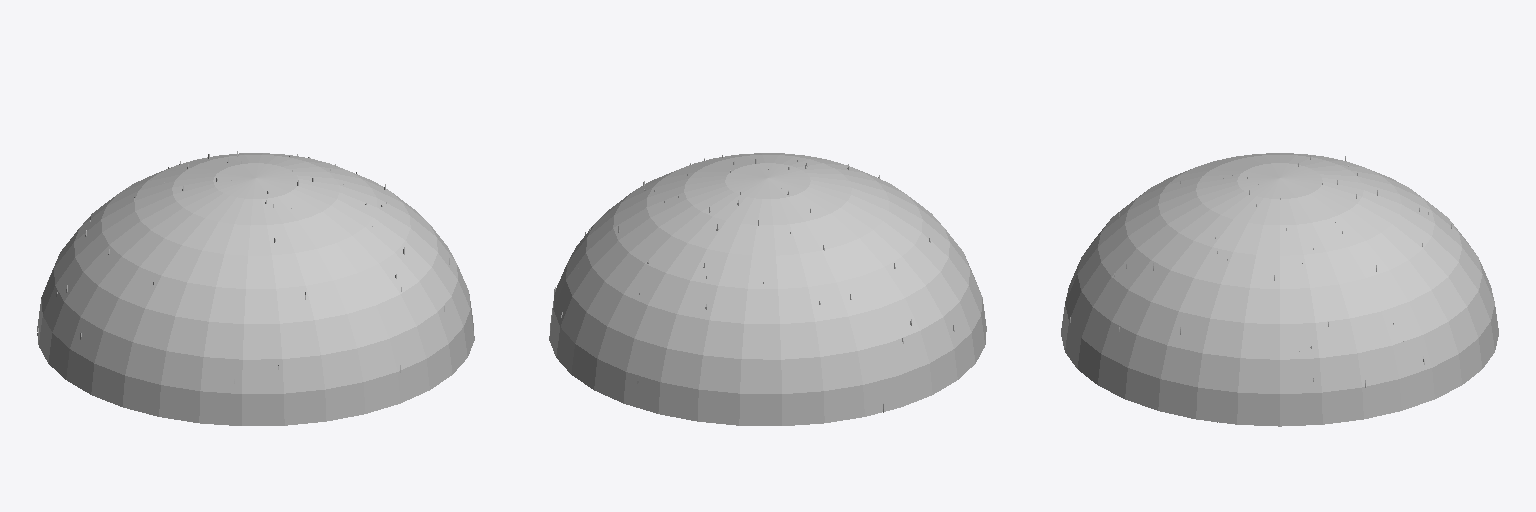
Rendered from particule_000124.obj.
The picture shows the model from 3 angles: view 1: azimuth 30°, elevation 25°; view 2: azimuth 150°, elevation 25°; view 3: azimuth 270°, elevation 25°; orthographic projection.
Visible parts, largest first — view 1: Sphère; view 2: Sphère; view 3: Sphère.
Boxes of the visible parts, box(x1,y1,x2,y2) form: Sphère: box(37, 153, 474, 425); Sphère: box(549, 153, 986, 425); Sphère: box(1061, 153, 1498, 426).
Bounding box in the file's own units: 63430 × 25768 × 63430.